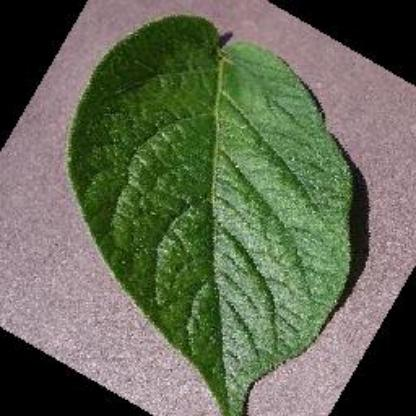Healthy-plant: (70, 8, 370, 416)
